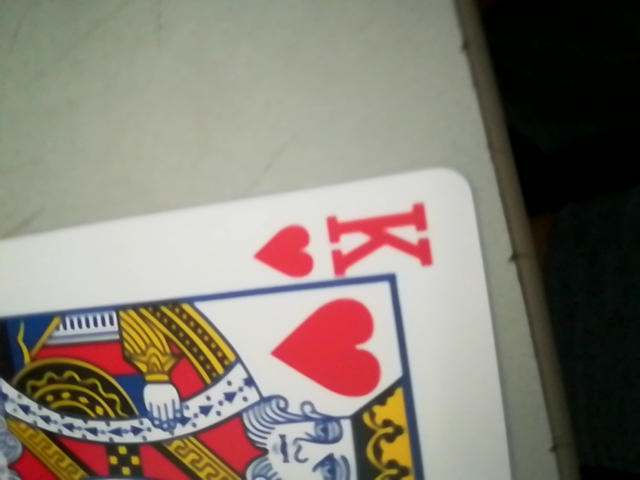hx k: (255, 197, 442, 286)
